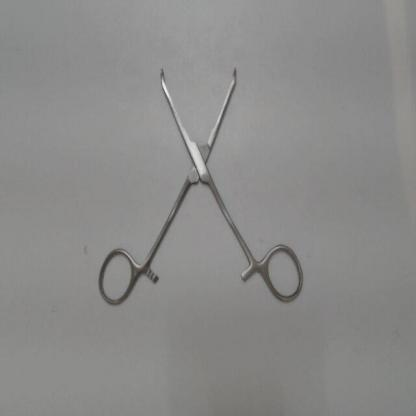Allis Tissue Forceps: (93, 62, 309, 310)
